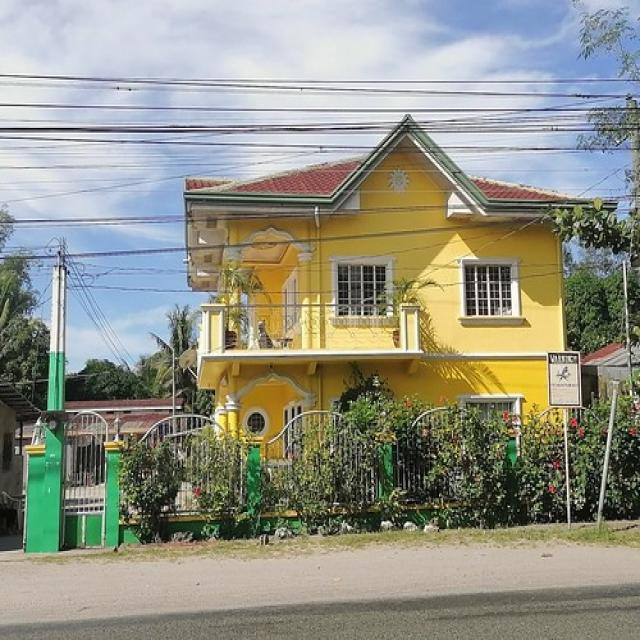Normal_building: (181, 114, 615, 524)
